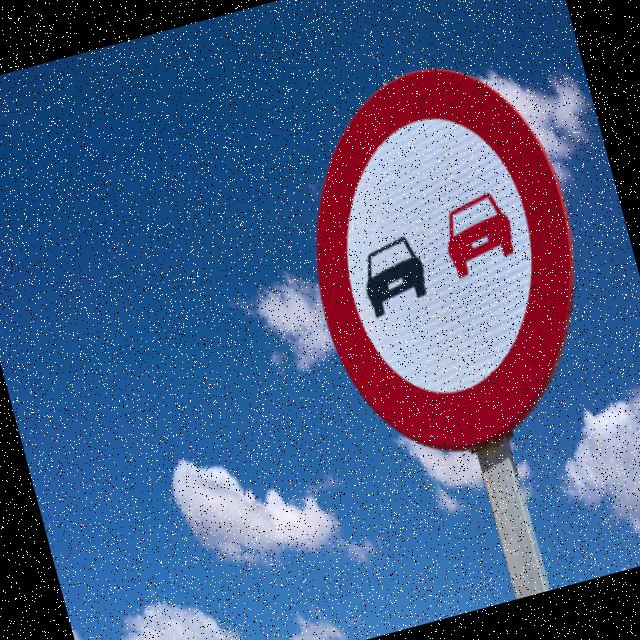no_passing: (254, 39, 624, 484)
